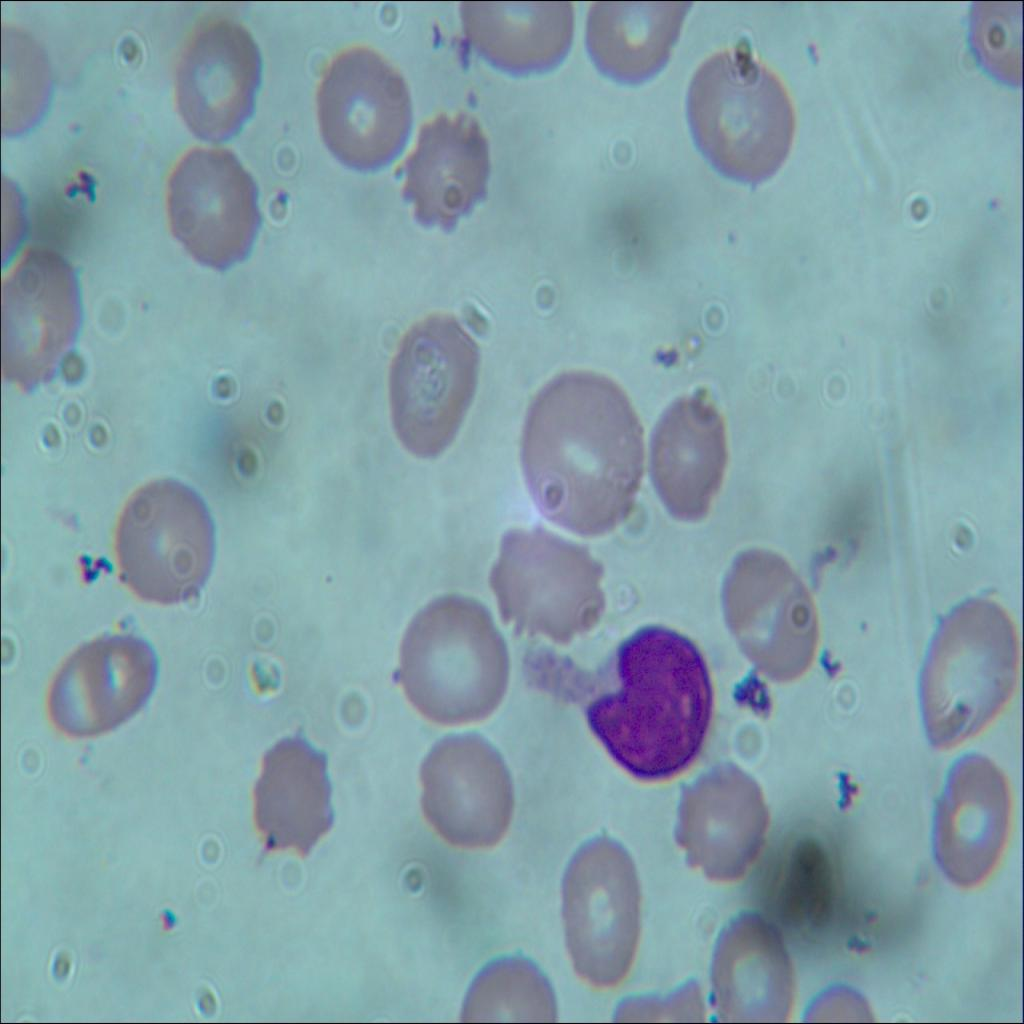Eritrosit: (514, 369, 646, 538), (916, 592, 1018, 754), (476, 518, 606, 644), (684, 48, 798, 191), (382, 310, 483, 470), (114, 468, 218, 618), (32, 632, 158, 754), (400, 589, 510, 728), (306, 42, 416, 177), (722, 544, 823, 688), (671, 762, 773, 902), (928, 746, 1022, 897), (162, 142, 266, 274), (248, 730, 342, 872), (410, 735, 516, 858), (561, 831, 643, 986), (638, 392, 732, 525), (164, 12, 263, 138), (0, 248, 81, 398), (398, 114, 494, 235), (453, 0, 570, 89), (711, 914, 791, 1023), (583, 1, 668, 82)
Limfoblast: (575, 612, 715, 790)
Platelet: (383, 651, 414, 694), (256, 822, 284, 861), (852, 608, 878, 645), (155, 908, 186, 935), (269, 179, 293, 211), (458, 82, 484, 109), (718, 224, 746, 247), (983, 188, 999, 218), (113, 565, 135, 586)
